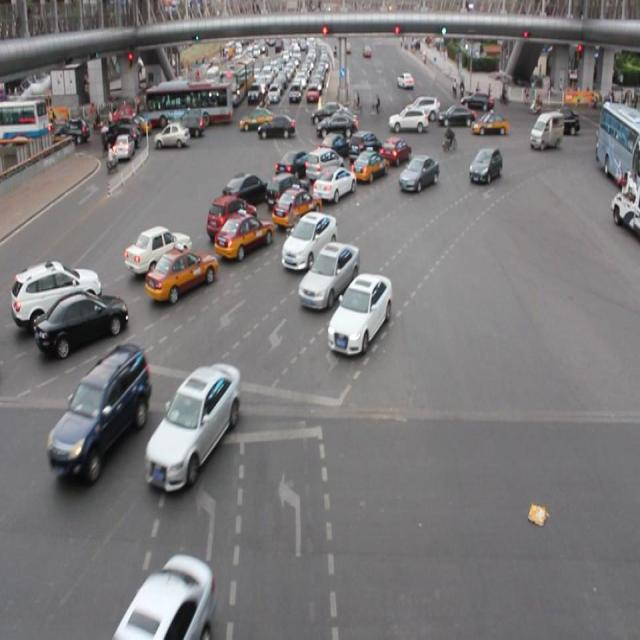car: (48, 344, 150, 479), (146, 362, 240, 489), (114, 553, 213, 640), (35, 289, 128, 353), (12, 259, 100, 323), (327, 273, 390, 355), (298, 240, 358, 310), (146, 244, 217, 301), (281, 209, 336, 272), (124, 225, 191, 273), (215, 210, 272, 259), (271, 185, 320, 229), (205, 196, 256, 237), (399, 155, 438, 196), (265, 172, 309, 208), (222, 172, 266, 208), (311, 167, 354, 202), (349, 149, 388, 184), (468, 145, 501, 186), (275, 149, 313, 183), (347, 128, 380, 162), (316, 131, 351, 161), (378, 138, 410, 167)
truck: (305, 148, 342, 184), (530, 110, 562, 150)
